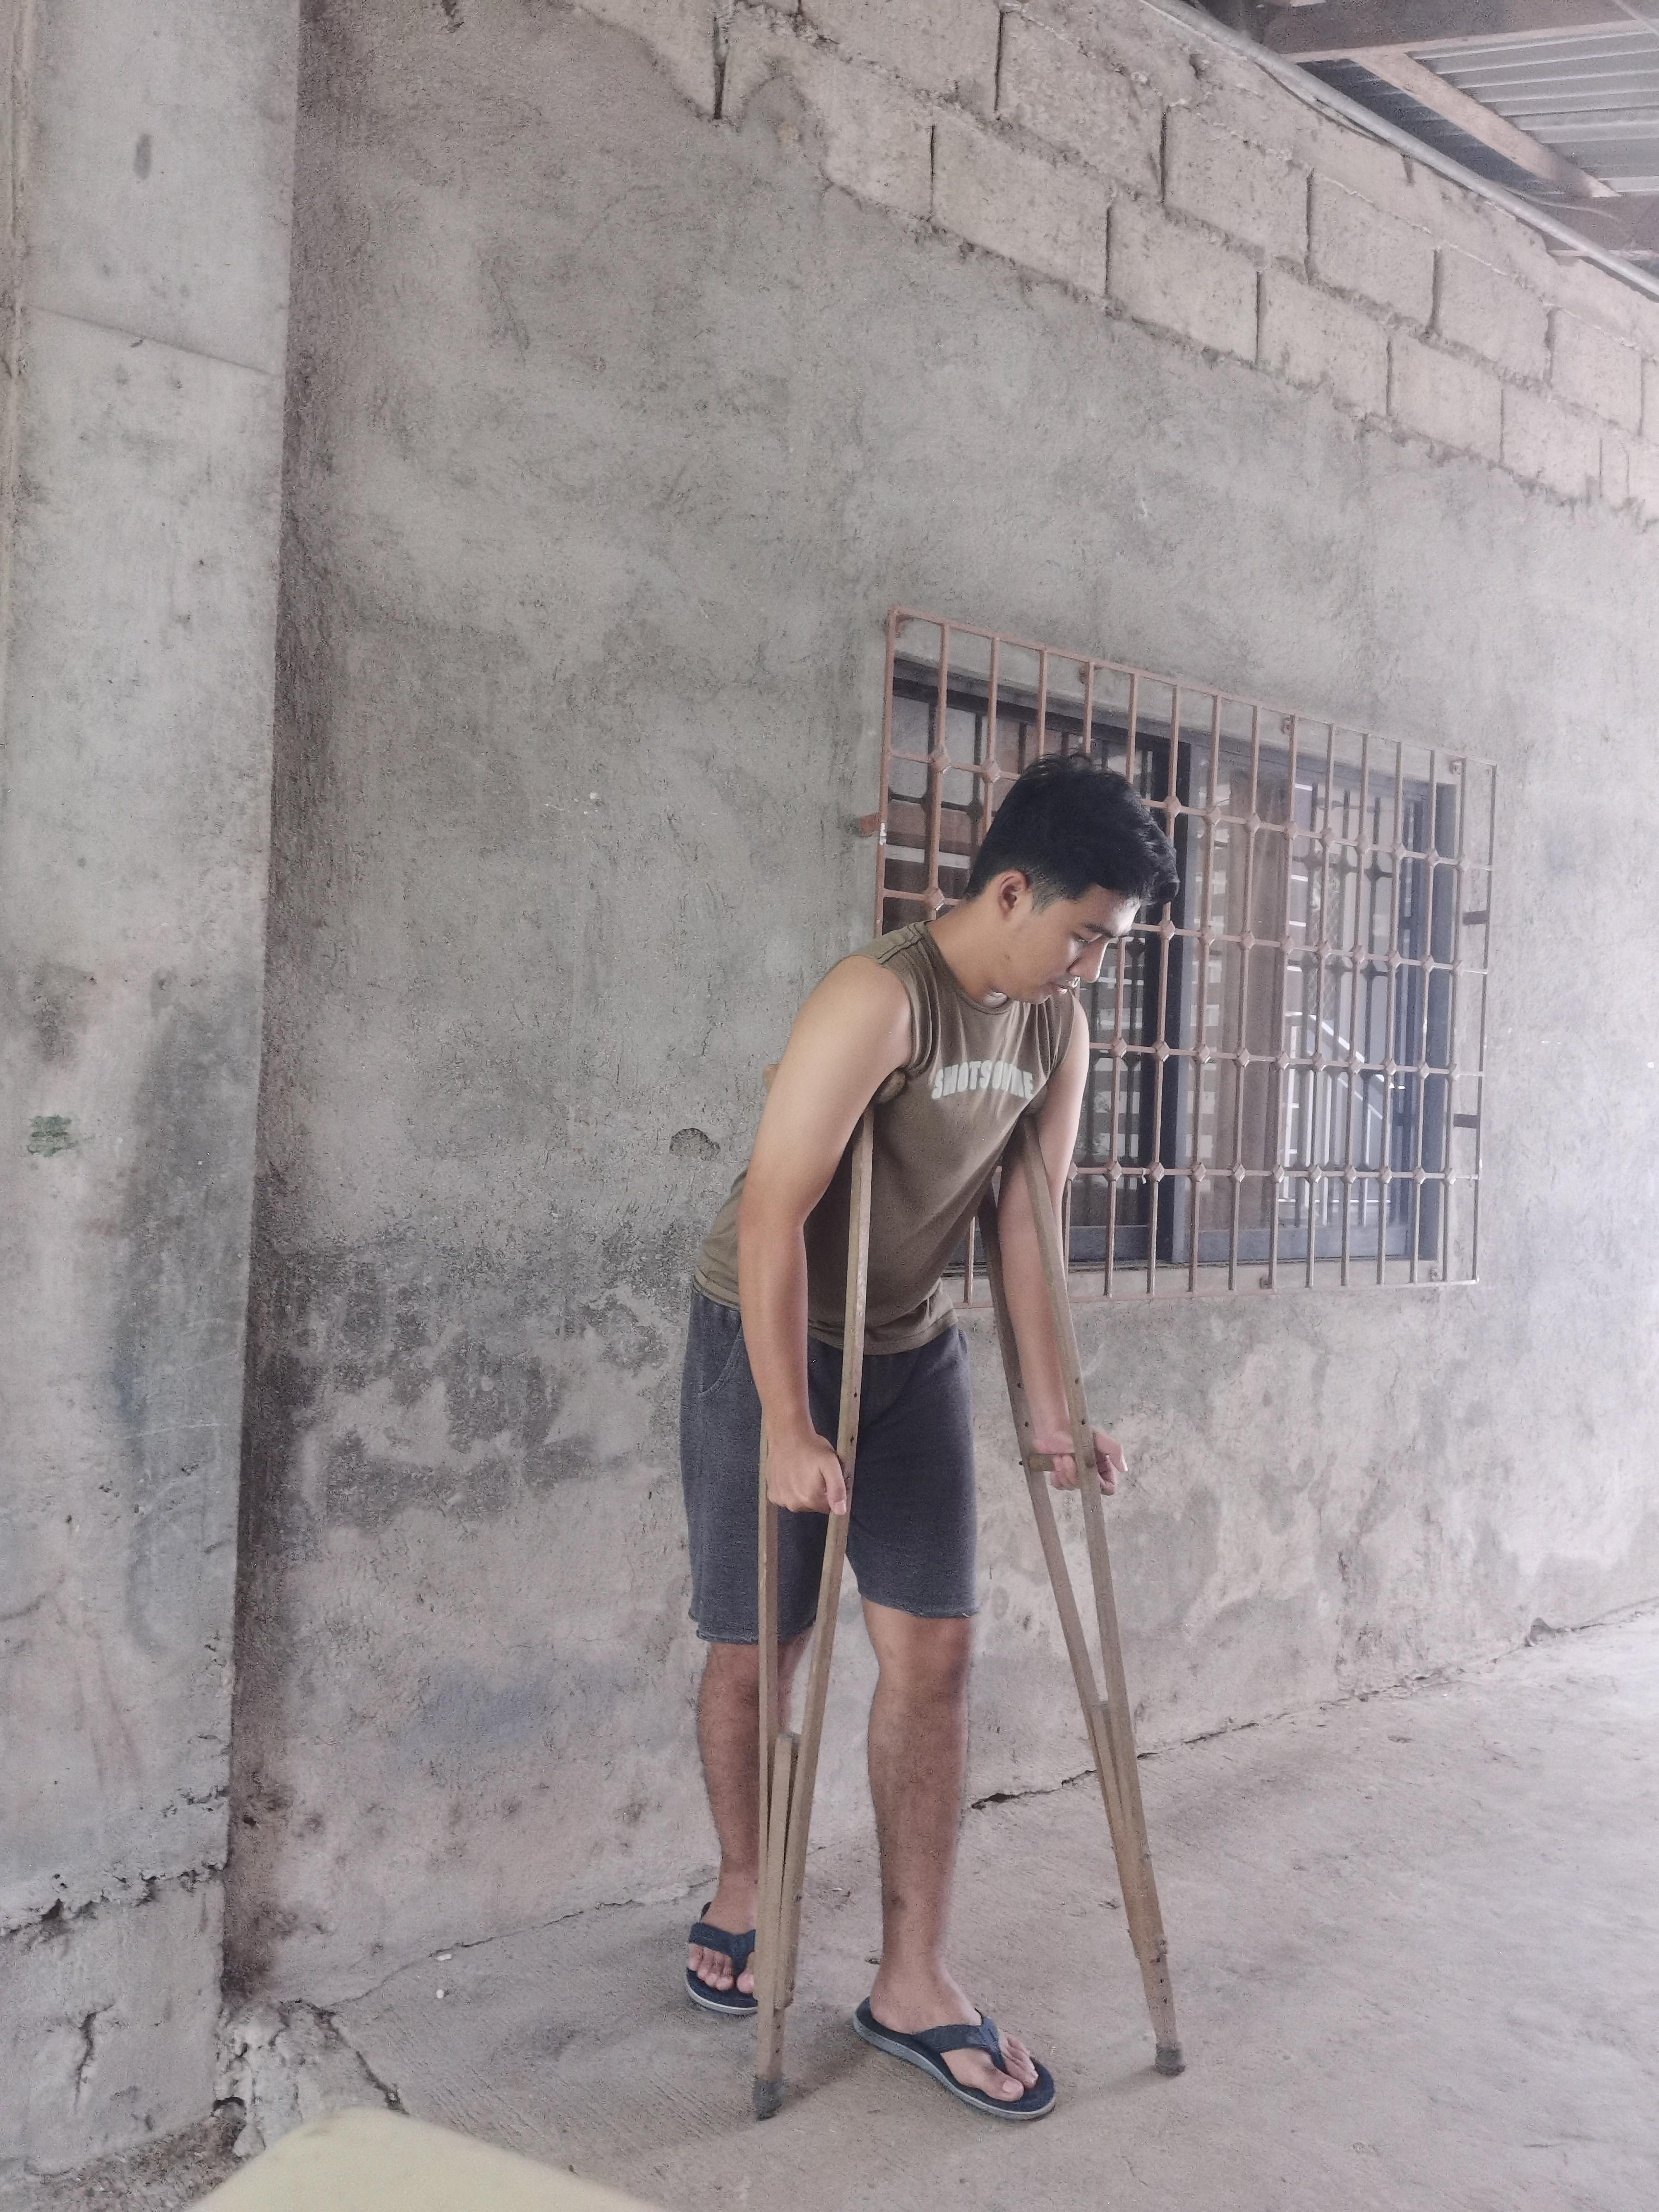crutches: (653, 726, 1197, 2158)
